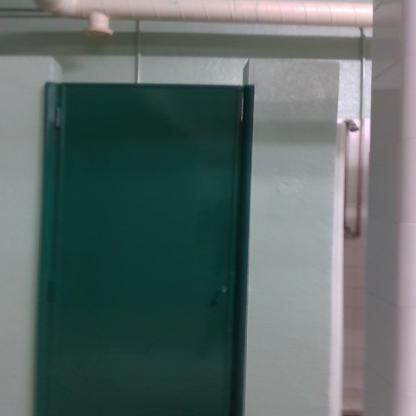closed: (26, 62, 264, 416)
